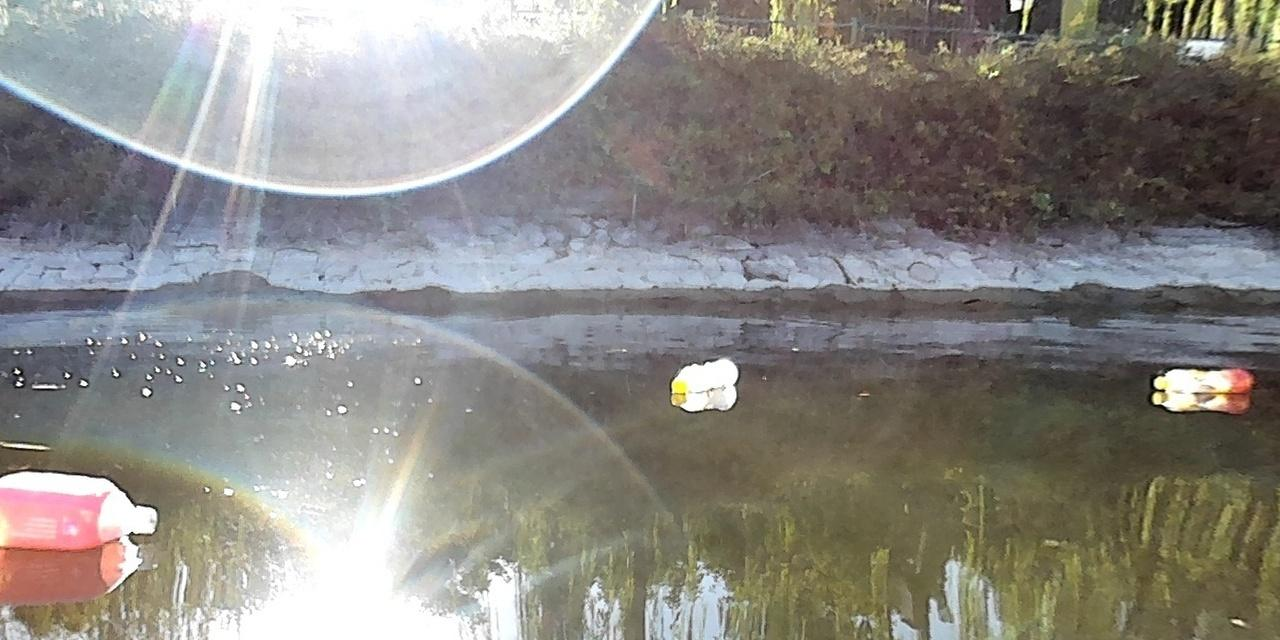bottle: (0, 462, 162, 558), (1147, 362, 1257, 393), (669, 354, 737, 394)
